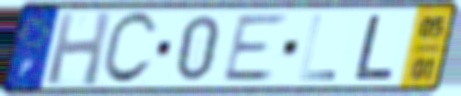0: (174, 13, 225, 83)
C: (98, 9, 160, 88)
E: (219, 12, 291, 84)
H: (44, 9, 115, 89)
L: (351, 13, 397, 82), (296, 13, 339, 83)
